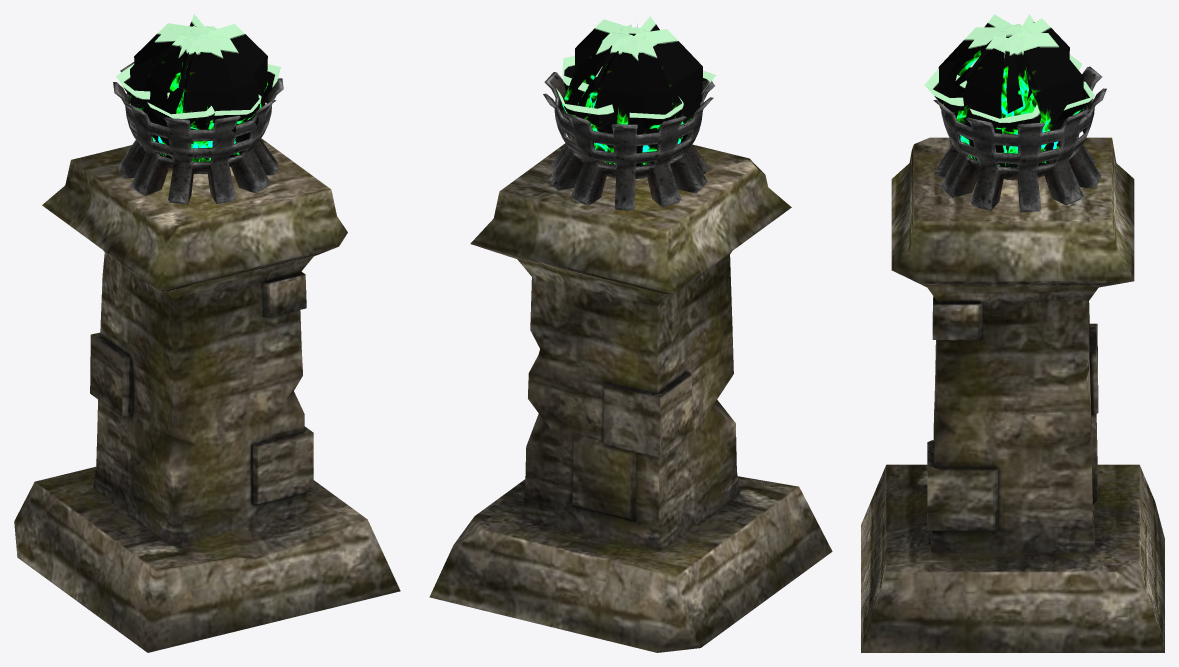
The model's file is altar2.glb.
3 views of the same model, side by side, from view 1: azimuth 30°, elevation 25°; view 2: azimuth 150°, elevation 25°; view 3: azimuth 270°, elevation 25° (orthographic). The views are drawn at different scales.
Parts seen in each view (by area): view 1: Object_4, Object_3, Object_2; view 2: Object_4, Object_3, Object_2; view 3: Object_4, Object_3, Object_2.
Boxes of the visible parts, x1,y1,x2,y2 form: Object_4: [14, 138, 400, 652]; Object_3: [116, 14, 280, 161]; Object_2: [113, 62, 283, 204]; Object_4: [429, 143, 832, 652]; Object_3: [556, 16, 715, 166]; Object_2: [543, 72, 714, 210]; Object_4: [861, 137, 1164, 652]; Object_3: [924, 14, 1094, 167]; Object_2: [933, 66, 1106, 212].
Bounding box in the file's own units: 0.0454 × 0.0926 × 0.0455.
Materials: 3 (3 with a texture image).
